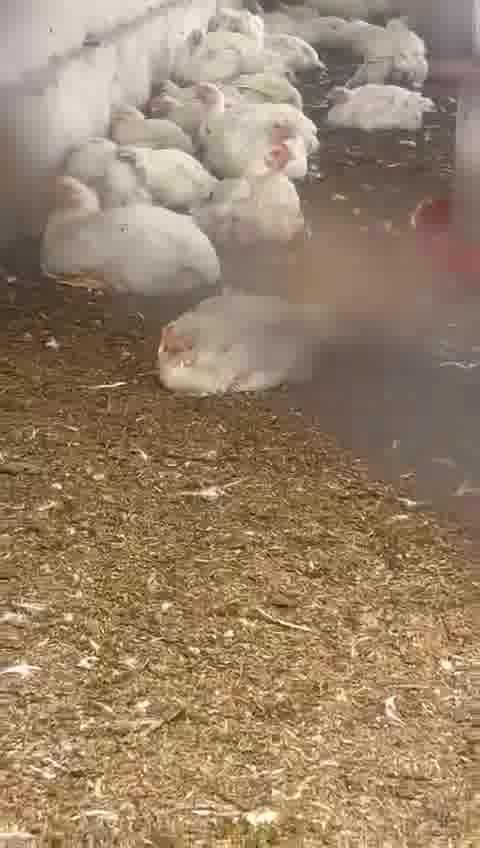AbNormal: (156, 287, 349, 391), (69, 134, 184, 202), (170, 26, 244, 76), (109, 96, 182, 143), (149, 75, 202, 123)
Normal: (44, 173, 220, 300), (209, 145, 307, 255), (190, 79, 318, 159), (313, 72, 431, 131), (230, 122, 319, 191)
